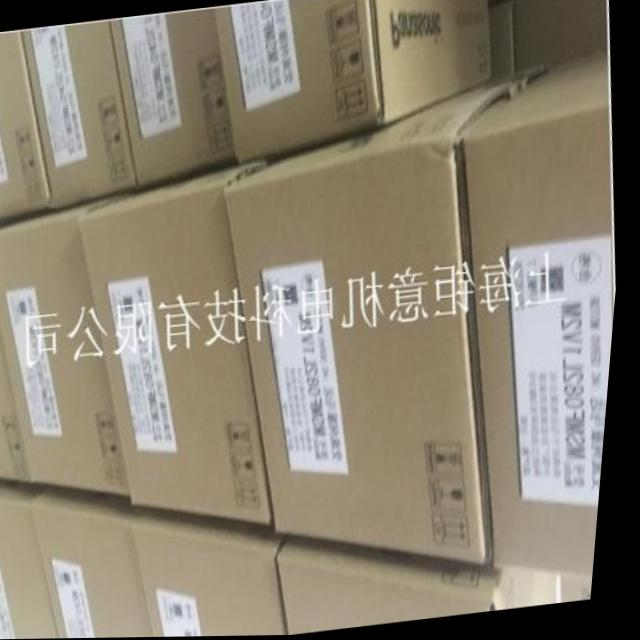box: (226, 69, 543, 568), (465, 54, 619, 583), (82, 159, 281, 527), (214, 0, 493, 166), (0, 190, 140, 497), (286, 537, 572, 636), (110, 10, 238, 191), (21, 21, 140, 209), (141, 509, 297, 638), (41, 487, 160, 639), (0, 479, 69, 640), (0, 29, 56, 222), (0, 307, 39, 483)
